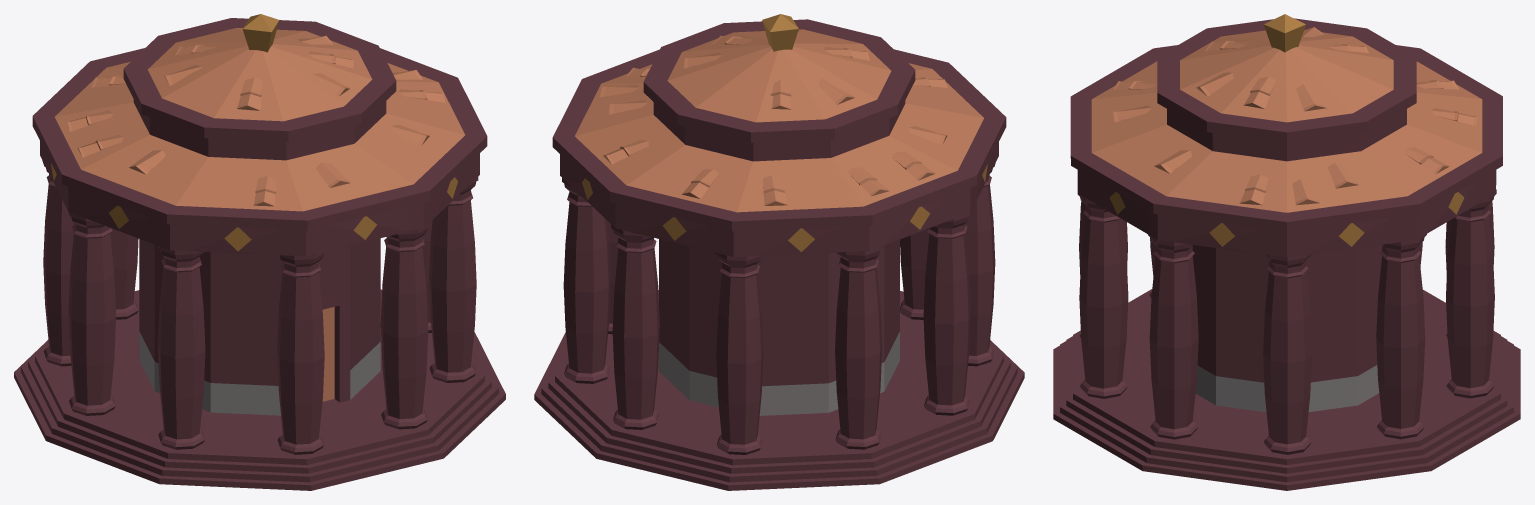
File: SM_Temple_Tholos_Empire.fbx
3 views of the same model, side by side, from view 1: azimuth 30°, elevation 25°; view 2: azimuth 150°, elevation 25°; view 3: azimuth 270°, elevation 25° (orthographic).
Visible parts, largest first — view 1: SM_Ancient_Temple_Tholos_Empire; view 2: SM_Ancient_Temple_Tholos_Empire; view 3: SM_Ancient_Temple_Tholos_Empire.
Boxes of the visible parts, x1=… form: SM_Ancient_Temple_Tholos_Empire: x1=14, y1=14, x2=505, y2=490; SM_Ancient_Temple_Tholos_Empire: x1=534, y1=14, x2=1024, y2=490; SM_Ancient_Temple_Tholos_Empire: x1=1053, y1=14, x2=1520, y2=490.
Size of the model in its own units: 17.45 by 14.62 by 16.6.
